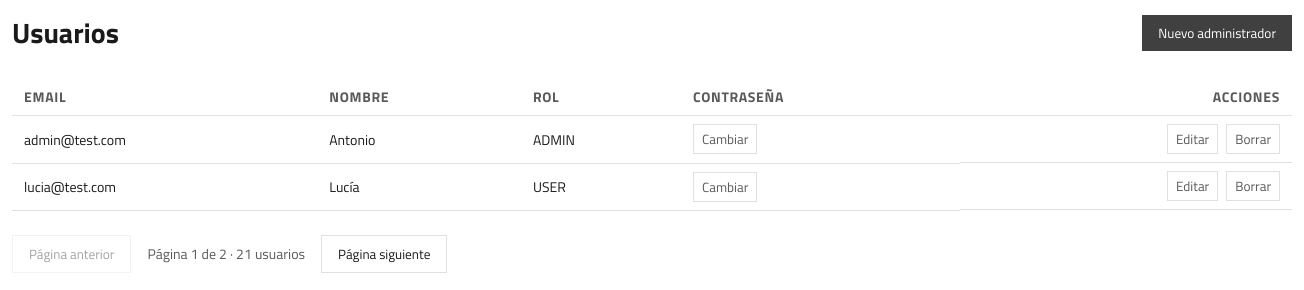
Test: AdminUsers › avanza a la página siguiente y pide page=2
The image size is (1304, 290).
Check: the cell "admin@test.com" is shown, box [12,116,317,163]
Click the button "Página siguiente" at (384, 254), box [321,234,447,272]
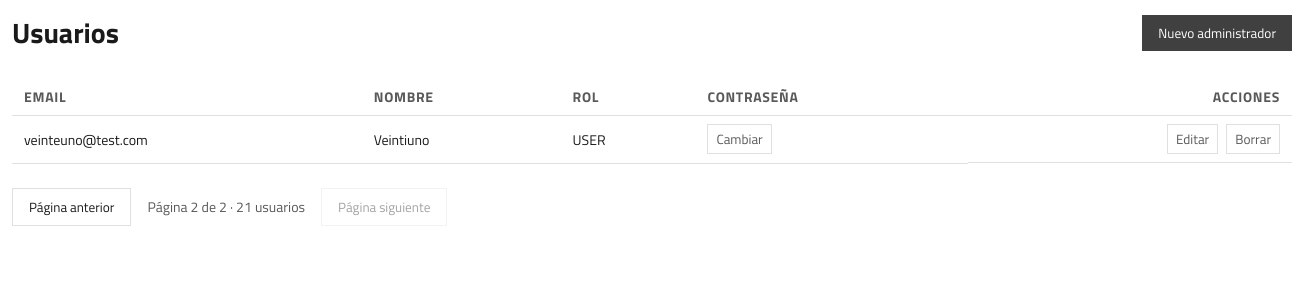
Check: the cell "veinteuno@test.com" is shown, box [12,116,362,163]
Check: the navigation bar named "Paginación de usuarios" shows "Página 2 de 2 · 21 usuarios", box [12,188,447,226]
Check: the button "Página siguiente" is disabled, box [321,188,447,226]
